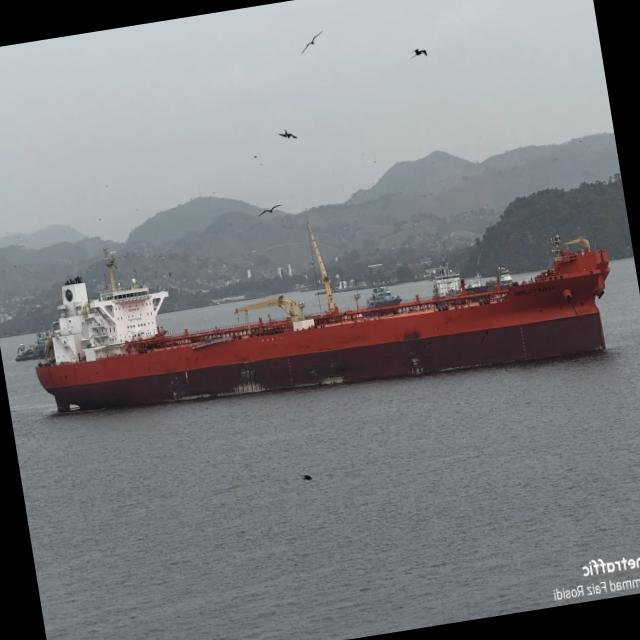Tanker: (36, 233, 610, 413)
